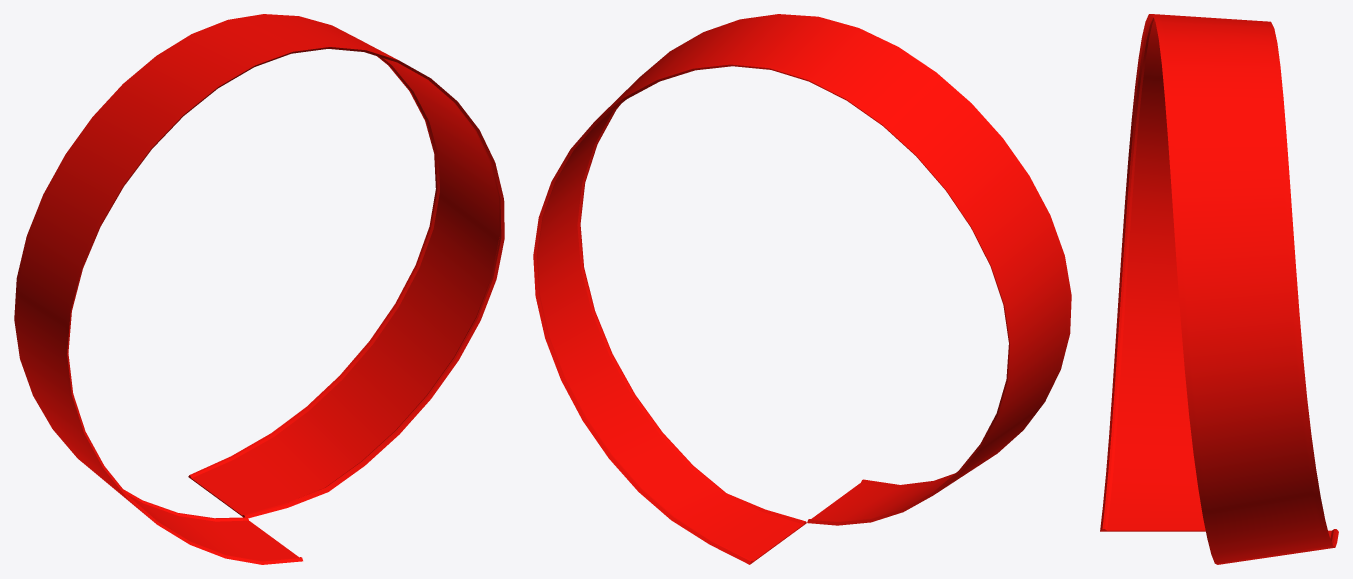
The model's file is LoopBig.FBX.
3 renders of one model, left to right at view 1: azimuth 30°, elevation 25°; view 2: azimuth 150°, elevation 25°; view 3: azimuth 270°, elevation 25°, orthographic. The views are drawn at different scales.
Visible parts, largest first — view 1: LoopBig; view 2: LoopBig; view 3: LoopBig.
Boxes of the visible parts, x1,y1,x2,y2 form: LoopBig: (14,14,504,564); LoopBig: (533,14,1071,564); LoopBig: (1100,14,1338,564).
Bounding box in the file's own units: 2338 × 1000 × 2317.
